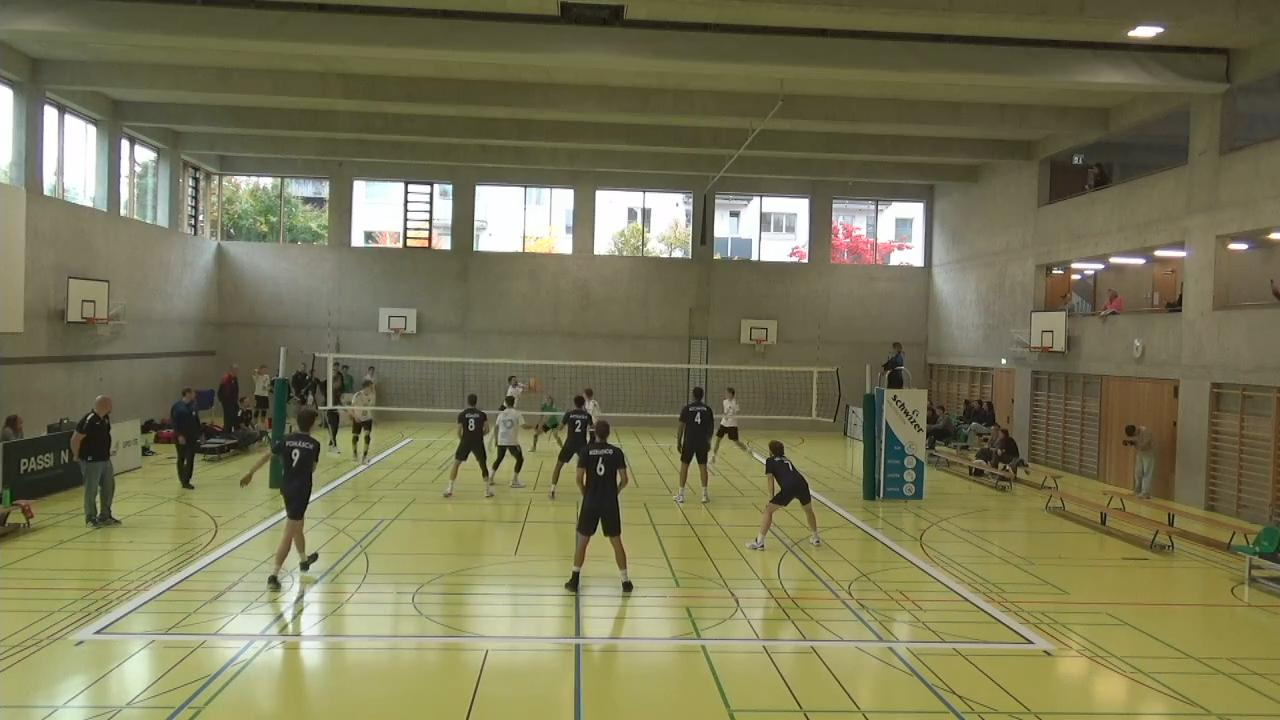Player: (238, 410, 325, 593), (566, 421, 633, 594), (749, 440, 821, 550), (672, 384, 716, 504), (442, 394, 492, 498), (546, 393, 596, 497), (486, 395, 530, 494), (346, 377, 384, 476), (712, 387, 753, 463), (527, 392, 568, 454), (582, 390, 604, 427)
Receive: (489, 373, 529, 455)
ball: (521, 376, 542, 394)
